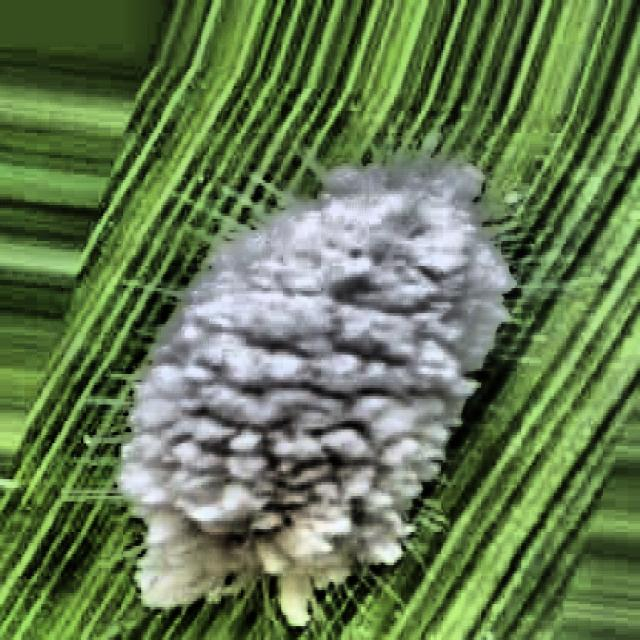Mealy-bug: (70, 93, 552, 638)
